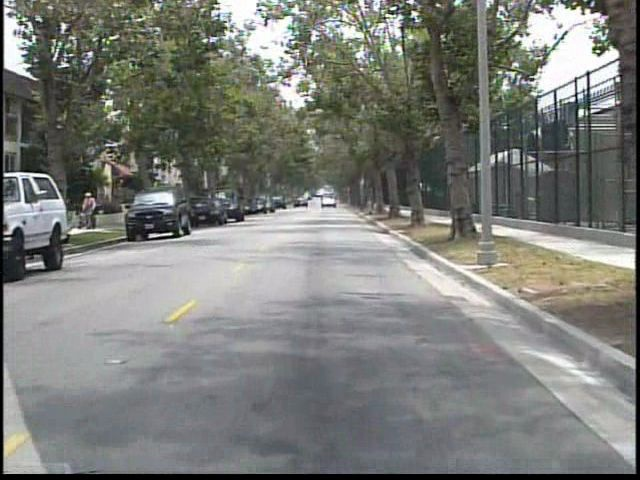person: (85, 193, 105, 233)
